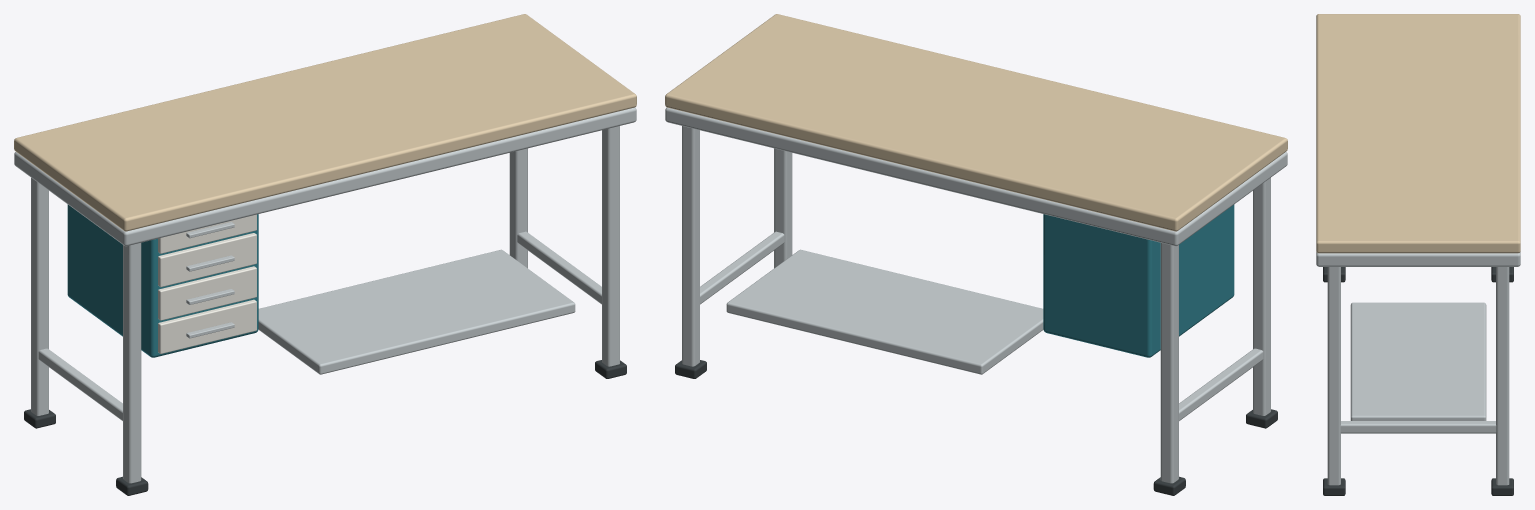
File: bicycle-shop-and-repair-cafe-mechanic-workbench-11f9e53d__32388.glb
The picture shows the model from 3 angles, left to right: view 1: azimuth 30°, elevation 25°; view 2: azimuth 150°, elevation 25°; view 3: azimuth 270°, elevation 25°; orthographic projection. The views are drawn at different scales.
Parts seen in each view (by area): view 1: mechanic-workbench; view 2: mechanic-workbench; view 3: mechanic-workbench.
Boxes of the visible parts, x1,y1,x2,y2 form: mechanic-workbench: (14, 14, 636, 495); mechanic-workbench: (665, 14, 1287, 495); mechanic-workbench: (1316, 14, 1520, 495).
Size of the model in its own units: 1.8 by 0.945 by 0.6799.
